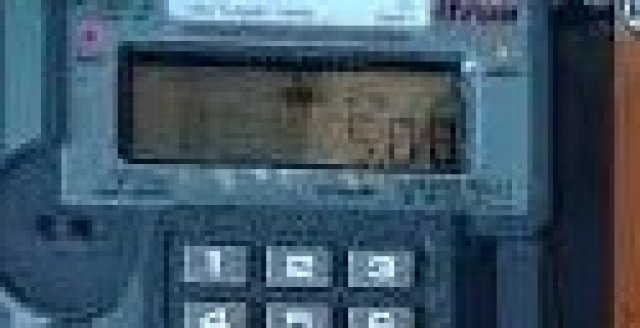box: (129, 65, 464, 167)
